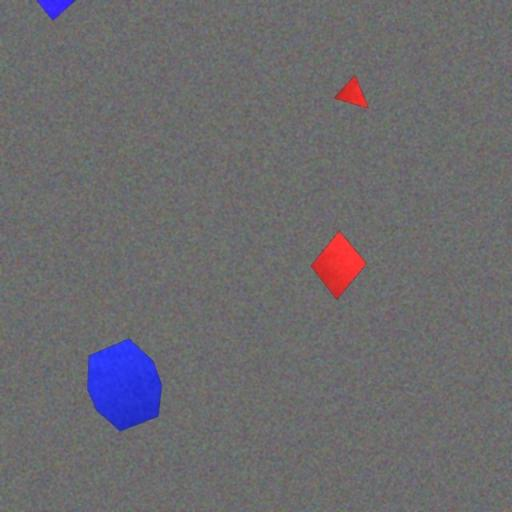RED_SQUARE: (310, 230, 368, 300)
